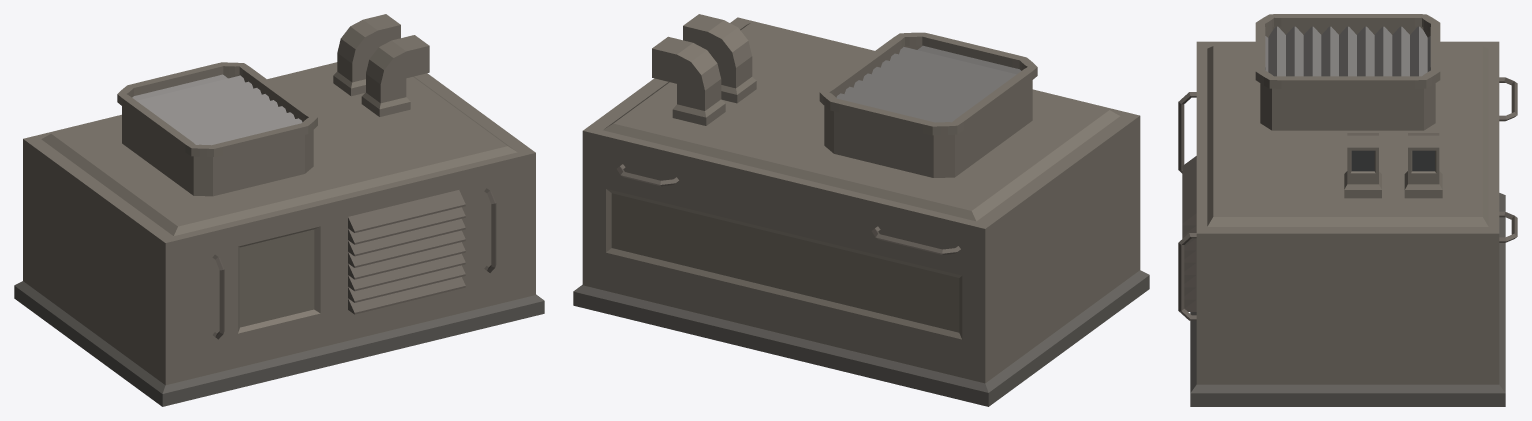
File: SM_Props_Roof_Vent_AC_Unit_02.fbx
The picture shows the model from 3 angles, left to right: view 1: azimuth 30°, elevation 25°; view 2: azimuth 150°, elevation 25°; view 3: azimuth 270°, elevation 25°; orthographic projection. The views are drawn at different scales.
Visible parts, largest first — view 1: SM_Props_Roof_Vent_AC_Unit_02; view 2: SM_Props_Roof_Vent_AC_Unit_02; view 3: SM_Props_Roof_Vent_AC_Unit_02.
Part boxes in pixels (left/top/right/bottom): SM_Props_Roof_Vent_AC_Unit_02: left=14, top=14, right=544, bottom=406; SM_Props_Roof_Vent_AC_Unit_02: left=573, top=14, right=1149, bottom=406; SM_Props_Roof_Vent_AC_Unit_02: left=1178, top=14, right=1517, bottom=406.
Size of the model in its own units: 310 by 173 by 224.
